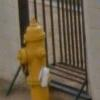Hydrant: (12, 15, 56, 98)
